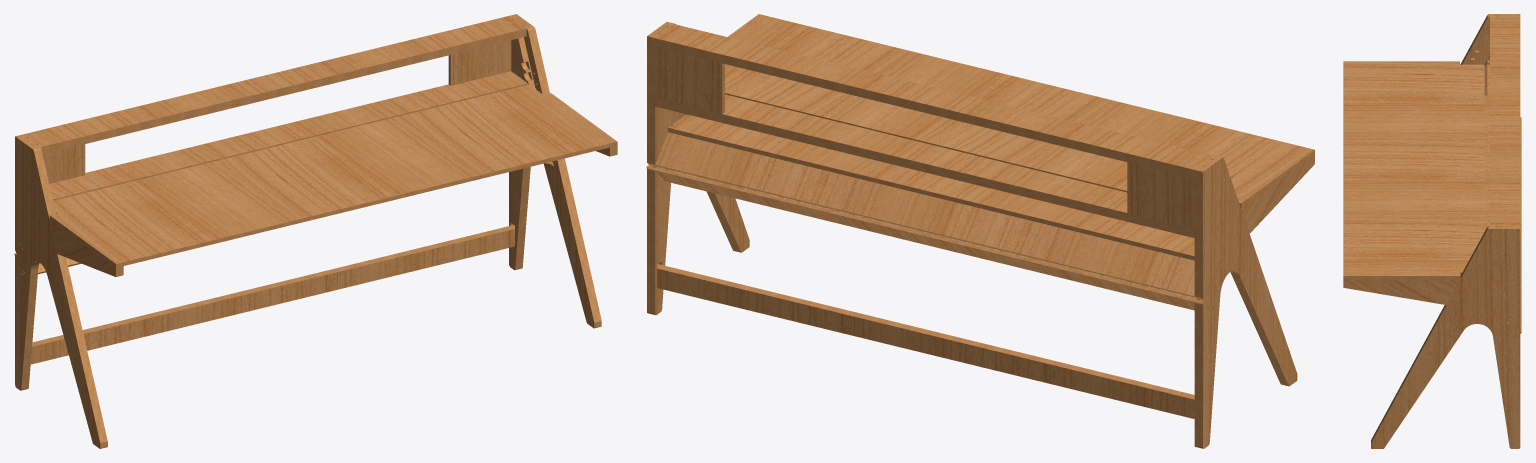
Rendered from mesa.fbx.
The picture shows the model from 3 angles, left to right: view 1: azimuth 30°, elevation 25°; view 2: azimuth 150°, elevation 25°; view 3: azimuth 270°, elevation 25°; orthographic projection. The views are drawn at different scales.
Visible parts, largest first — view 1: Tampo.001, Traseiro.001, Tampo_SUp.001, Pe_Dir.001, Pe_Esq.001; view 2: Traseiro.001, Tampo.001, Tampo_SUp.001, Pe_Dir.001, Pe_Esq.001; view 3: Tampo.001, Pe_Esq.001, Tampo_SUp.001, Traseiro.001, Pe_Dir.001.
Boxes of the visible parts, <box> form: Tampo.001: <box>49,71,617,267</box>; Traseiro.001: <box>14,40,514,364</box>; Tampo_SUp.001: <box>19,16,530,154</box>; Pe_Dir.001: <box>15,134,123,448</box>; Pe_Esq.001: <box>509,14,617,328</box>; Traseiro.001: <box>646,47,1212,418</box>; Tampo.001: <box>655,14,1314,237</box>; Tampo_SUp.001: <box>652,24,1218,178</box>; Pe_Dir.001: <box>1194,154,1314,448</box>; Pe_Esq.001: <box>647,22,749,315</box>; Tampo.001: <box>1343,61,1489,279</box>; Pe_Esq.001: <box>1343,225,1520,448</box>; Tampo_SUp.001: <box>1490,14,1520,228</box>; Traseiro.001: <box>1484,95,1521,345</box>; Pe_Dir.001: <box>1460,14,1520,95</box>.
Size of the model in its own units: 240 by 115 by 84.26.
